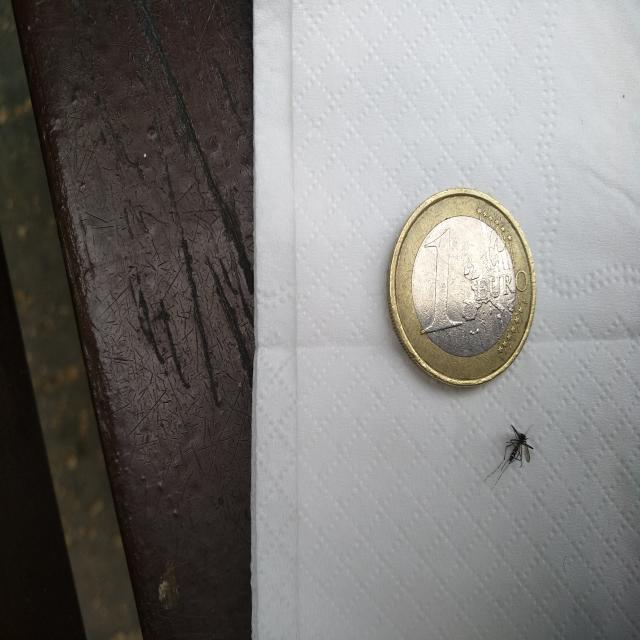albopictus: (482, 414, 542, 488)
